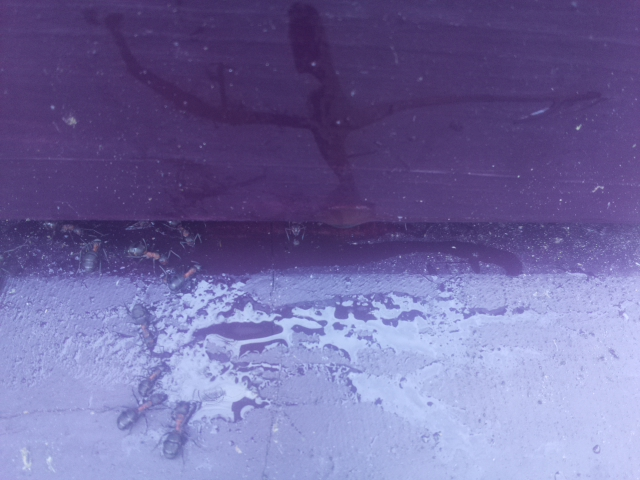ant: (108, 380, 175, 442), (160, 260, 206, 291), (122, 243, 172, 264), (80, 235, 103, 275)
